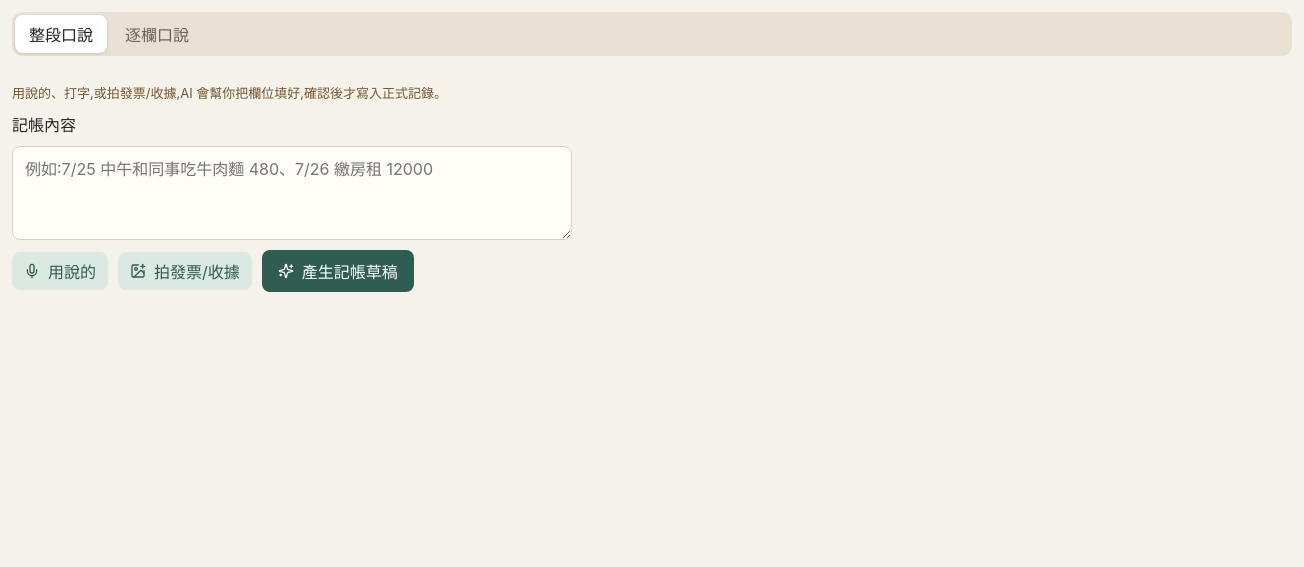
Scenario: AiLedgerPanel › does not mislabel an unsupported kind as expense
Step 1. Type "退款 100" into the text box labelled "記帳內容" → (292, 193), box [12, 146, 572, 240]
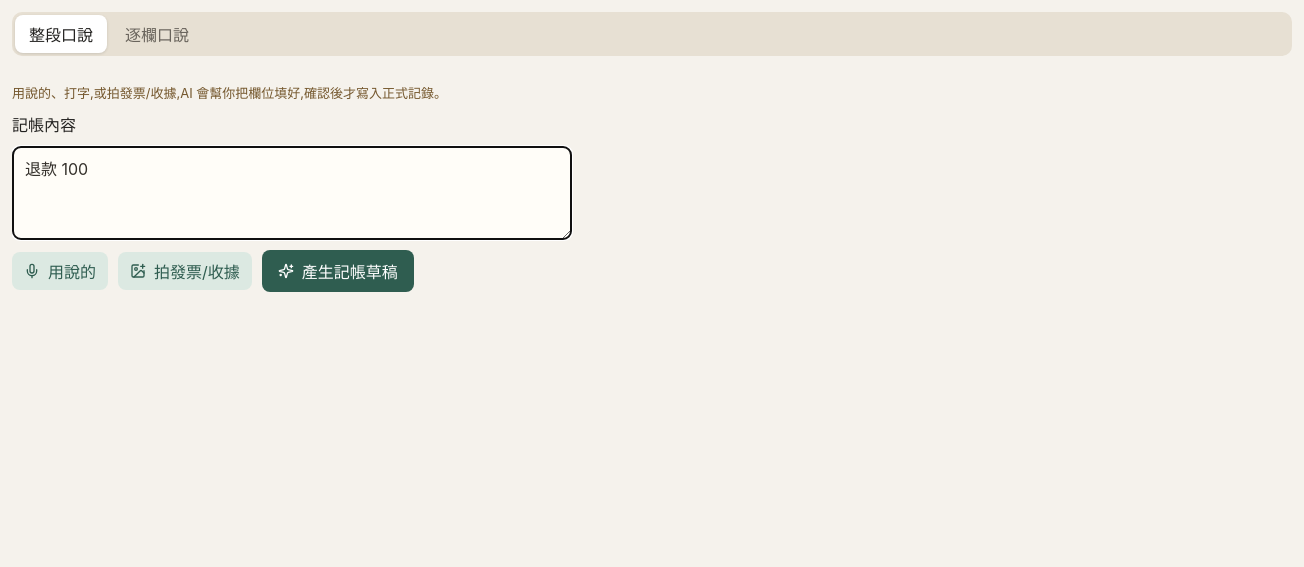
Step 2. Click the button "產生記帳草稿" → (338, 271), box [262, 250, 414, 292]
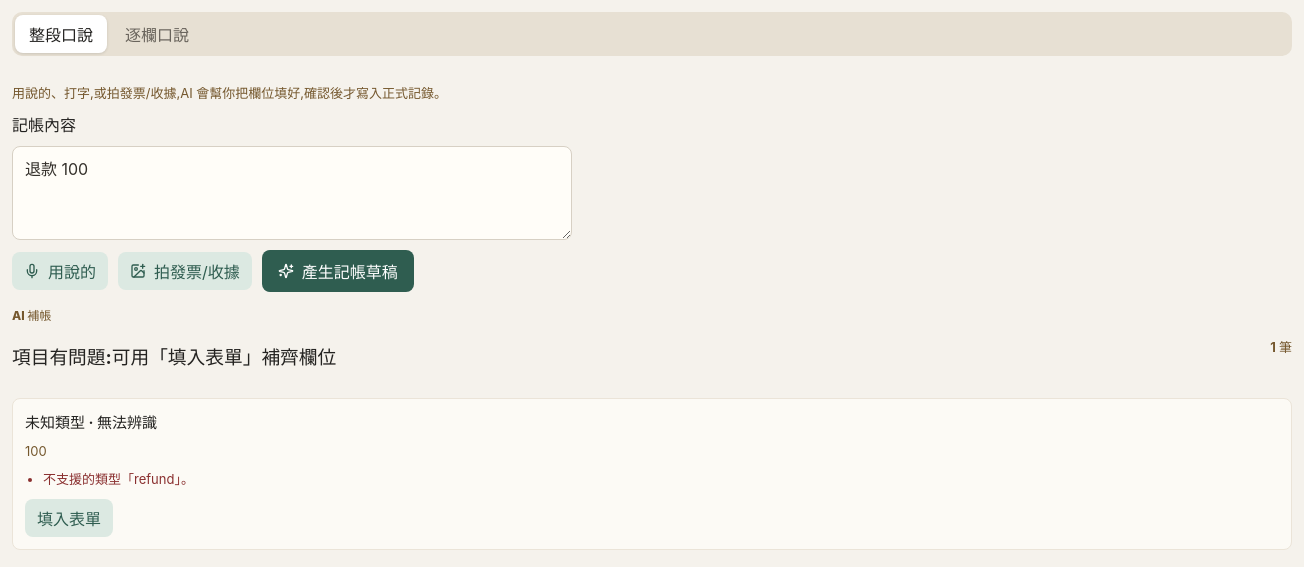
Now the text "未知類型 · 無法辨識" is shown, box [25, 413, 157, 432]
